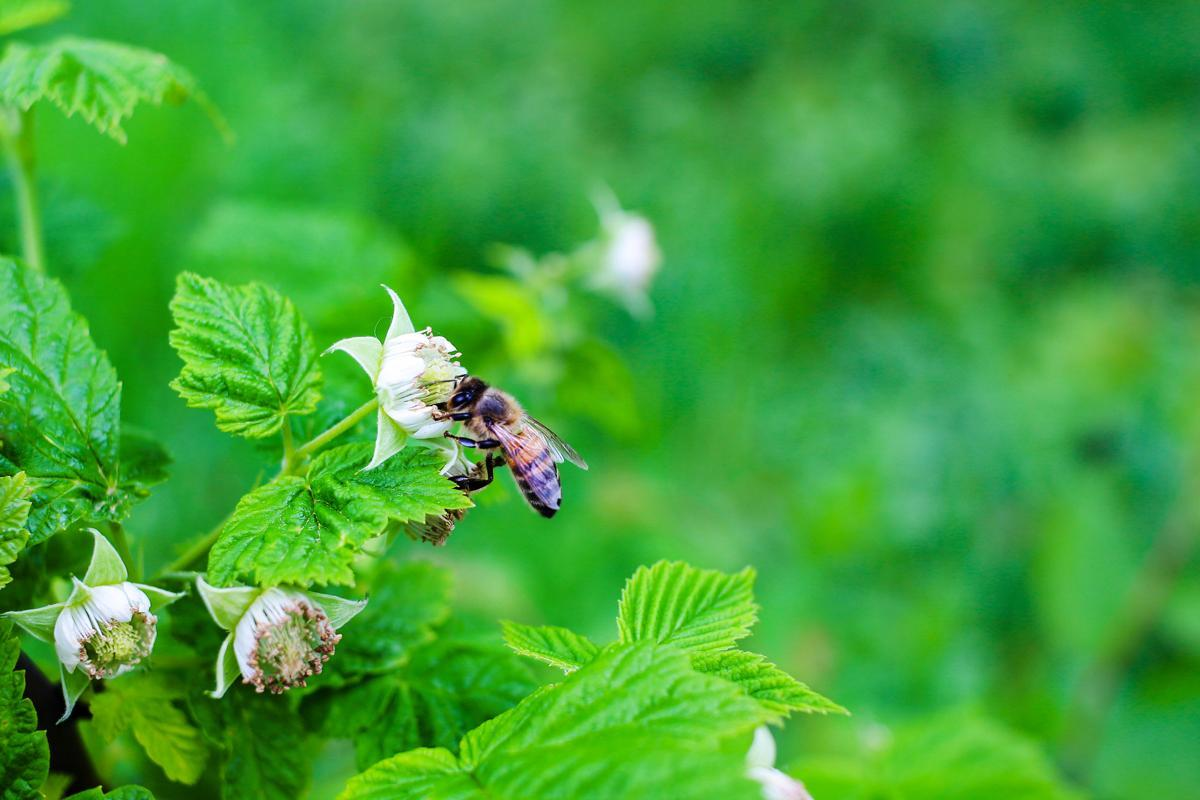Raspberry leaf: (350, 644, 765, 800), (157, 264, 330, 437), (617, 557, 761, 669)
